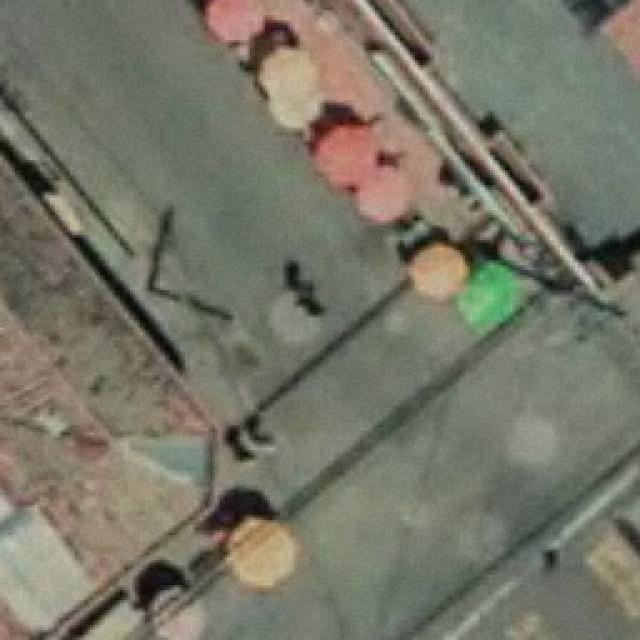vendedor_ambulante: (222, 511, 302, 590), (312, 117, 387, 189), (457, 259, 524, 336), (142, 579, 218, 640), (354, 159, 414, 227), (253, 41, 319, 101), (408, 235, 469, 299), (200, 0, 271, 48), (263, 82, 327, 128)
